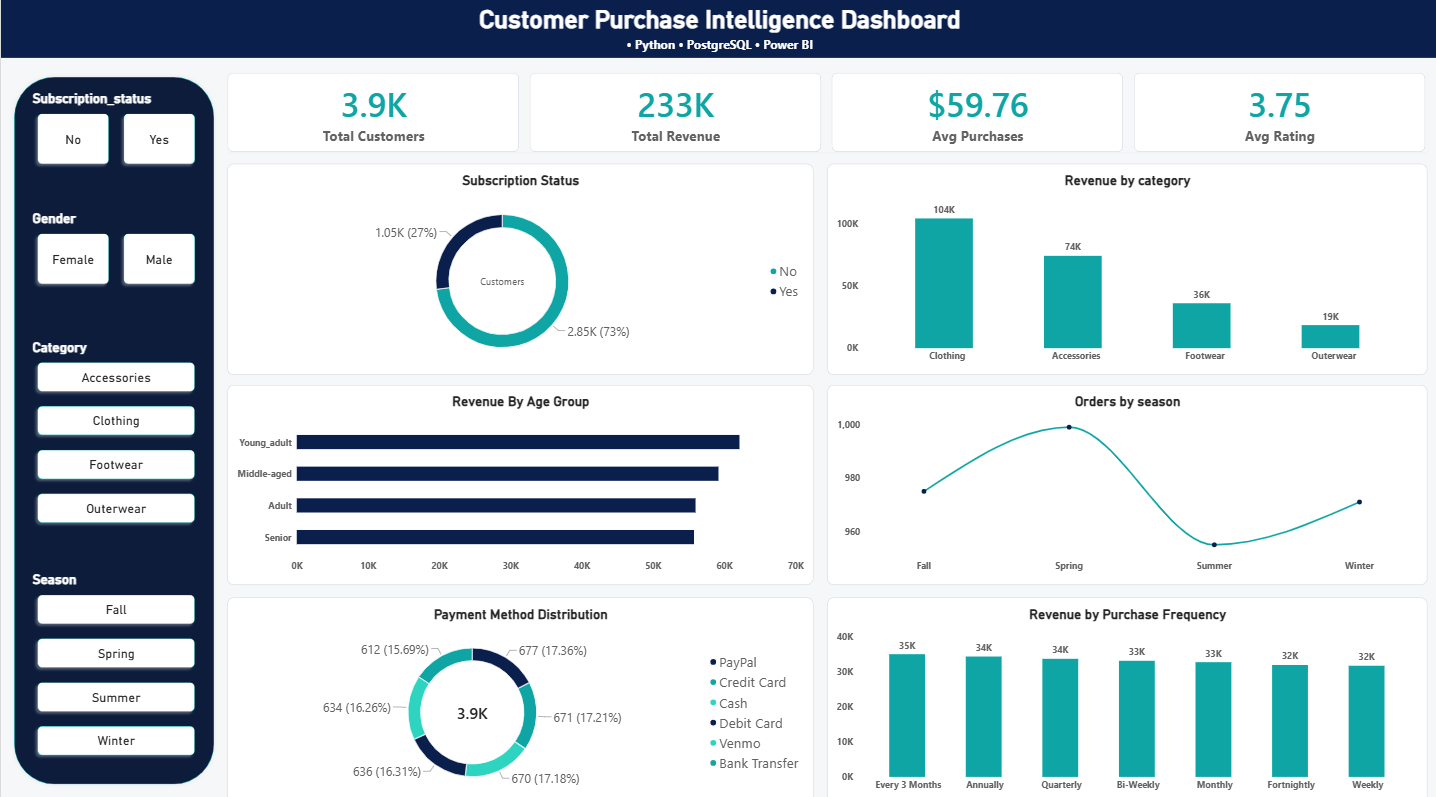

The page's visual inventory and layout, read from the dashboard file:
{"tool":"powerbi","page":{"name":"Page 1","canvas":[2560,1440],"ordinal":0},"visuals":[{"type":"textbox","title":"Customer Purchase Intelligence Dashboard","box":[0,0,2560.5,111.6],"z":0},{"type":"cardVisual","fields":{"Data":["public customer.Total Customers","public customer.Total Revenue","public customer.Avg Purchases","public customer.Avg Rating"]},"box":[403,138,2137.3,142.5],"z":1000},{"type":"columnChart","title":" Revenue by category","fields":{"Category":["public customer.category"],"Y":["public customer.Total Revenue"]},"box":[1471.6,300.6,1068.7,376.3],"z":2000},{"type":"donutChart","title":"Payment Method Distribution","fields":{"Category":["public customer.payment_method"],"Y":["CountNonNull(public customer.customer_id)"]},"box":[402.3,1072.1,1044.2,367.4],"z":3000},{"type":"lineChart","title":"Orders by season","fields":{"Category":["public customer.season"],"Y":["CountNonNull(public customer.customer_id)"]},"box":[1471.6,694.6,1068.7,356.2],"z":4000},{"type":"donutChart","title":"Subscription Status","fields":{"Category":["public customer.subscription_status"],"Y":["CountNonNull(public customer.customer_id)"]},"box":[403,300.6,1044.2,376.3],"z":5000},{"type":"clusteredBarChart","title":"Revenue By Age Group","fields":{"Category":["public customer.age_group"],"Y":["public customer.Total Revenue"]},"box":[402.3,695.4,1044.2,355.8],"z":6000},{"type":"clusteredColumnChart","title":"Revenue by Purchase Frequency","fields":{"Category":["public customer.frequency_of_purchases"],"Y":["public customer.Total Revenue"]},"box":[1471.6,1073.1,1068.7,367.3],"z":7000},{"type":"shape","box":[15.6,138,371.8,1275.7],"z":8000},{"type":"advancedSlicerVisual","title":"Subscription_status","fields":{"Values":["public customer.subscription_status"]},"box":[51.2,165,310,150],"z":9000},{"type":"advancedSlicerVisual","title":"Gender","fields":{"Values":["public customer.gender"]},"box":[51.2,379.1,310,150],"z":10000},{"type":"advancedSlicerVisual","title":"Category","fields":{"Values":["public customer.category"]},"box":[51.2,607,309.3,348.8],"z":11000},{"type":"advancedSlicerVisual","title":"Season","fields":{"Values":["public customer.season"]},"box":[51.2,1020.9,309.3,348.8],"z":12000}]}

Visuals, with their boxes in screenshot pixels (x1, y1, x2, y2), scaled from the page's 2560x1440 canvas onto the 1436x797 screenshot:
"Customer Purchase Intelligence Dashboard" textbox: (0, 0, 1435, 62)
cardVisual - public customer.Total Customers x public customer.Total Revenue: (226, 76, 1425, 155)
" Revenue by category" columnChart: (825, 166, 1425, 375)
"Payment Method Distribution" donutChart: (226, 593, 811, 796)
"Orders by season" lineChart: (825, 384, 1425, 582)
"Subscription Status" donutChart: (226, 166, 812, 375)
"Revenue By Age Group" clusteredBarChart: (226, 385, 811, 582)
"Revenue by Purchase Frequency" clusteredColumnChart: (825, 594, 1425, 796)
shape: (9, 76, 217, 782)
"Subscription_status" advancedSlicerVisual: (29, 91, 203, 174)
"Gender" advancedSlicerVisual: (29, 210, 203, 293)
"Category" advancedSlicerVisual: (29, 336, 202, 529)
"Season" advancedSlicerVisual: (29, 565, 202, 758)
